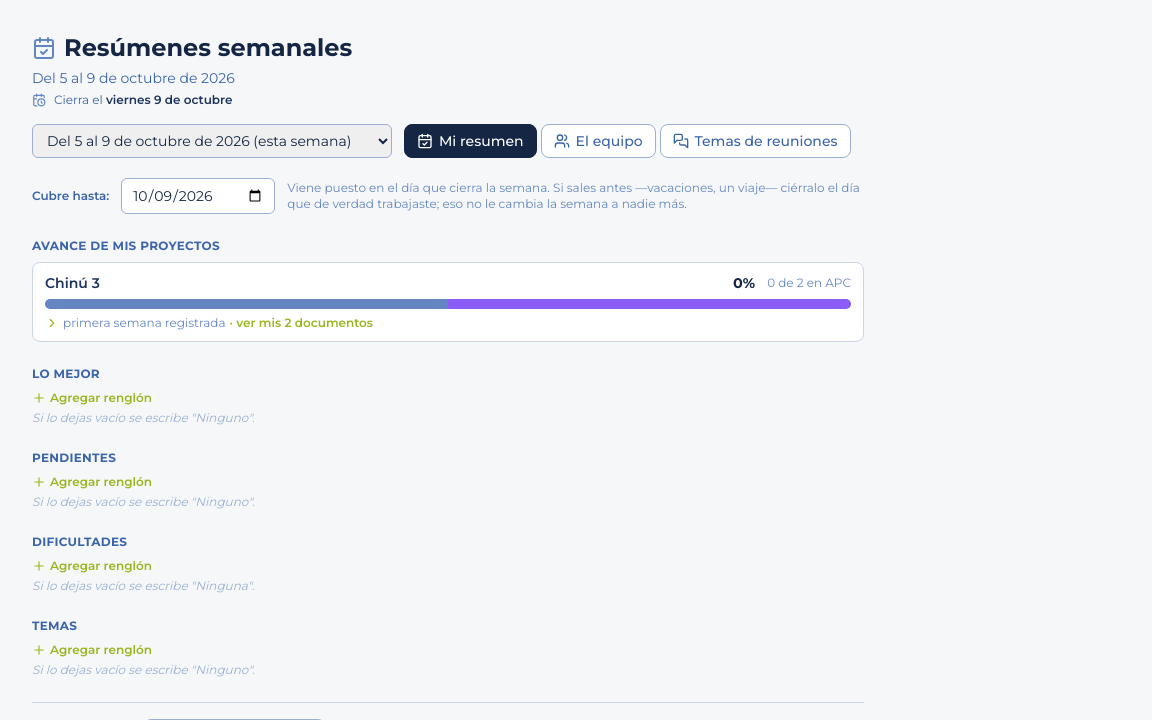
mi resumen › al desplegar se ven mis documentos agrupados por estado, con mi papel
What coordinates should you click on to do the following:
click the text "· ver mis 2 documentos"
I would click on:
 (301, 323)
Its box is [230,315,373,331].
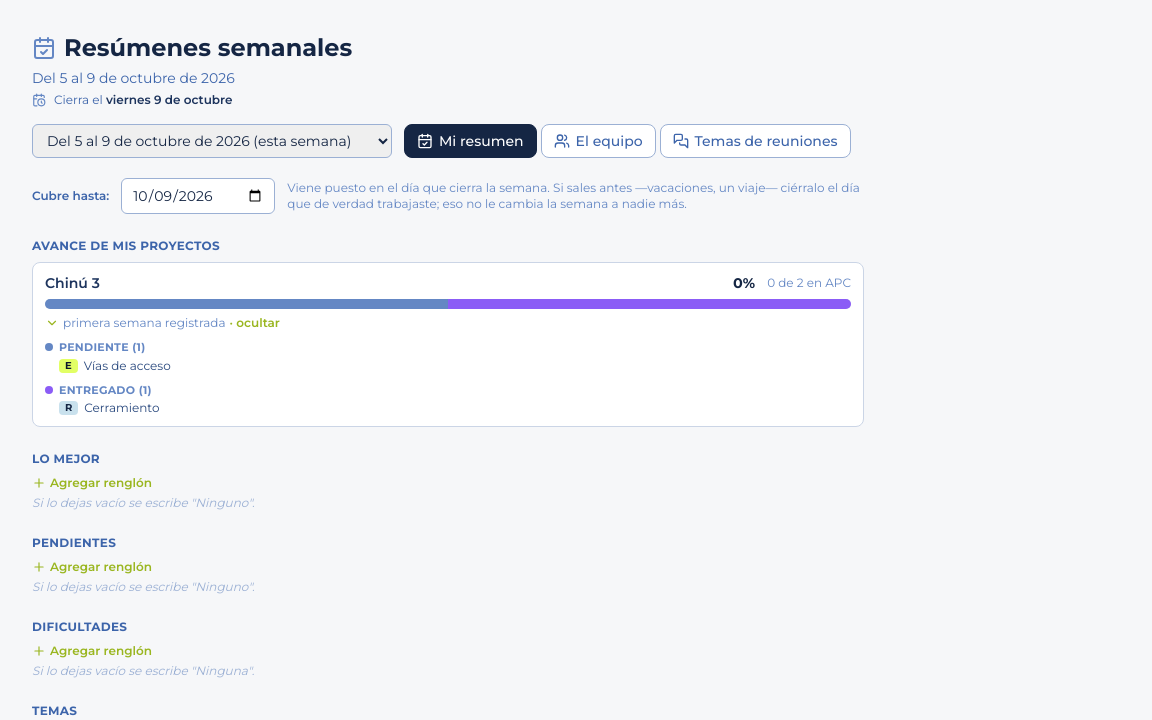
Now the text "Entregado (1)" is shown, box [45,382,152,396]
Now the text "Pendiente (1)" is shown, box [45,340,145,354]
Now the text "Cerramiento" is shown, box [84,400,160,416]
